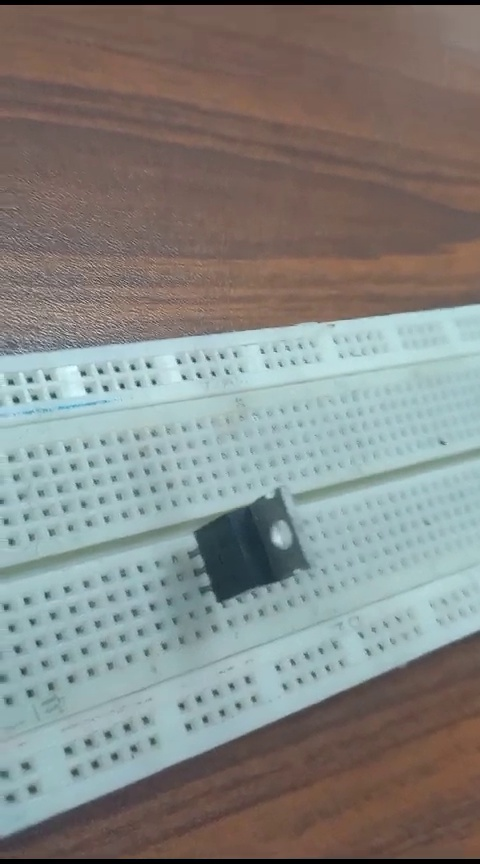voltage regulator: (182, 483, 310, 604)
